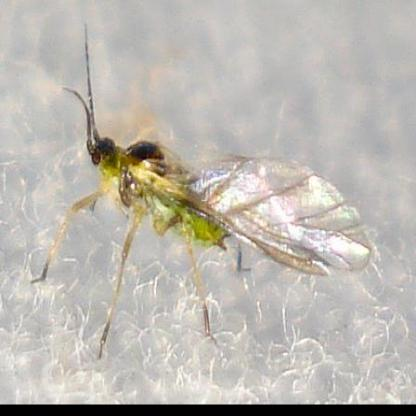aphid: (57, 58, 372, 344)
